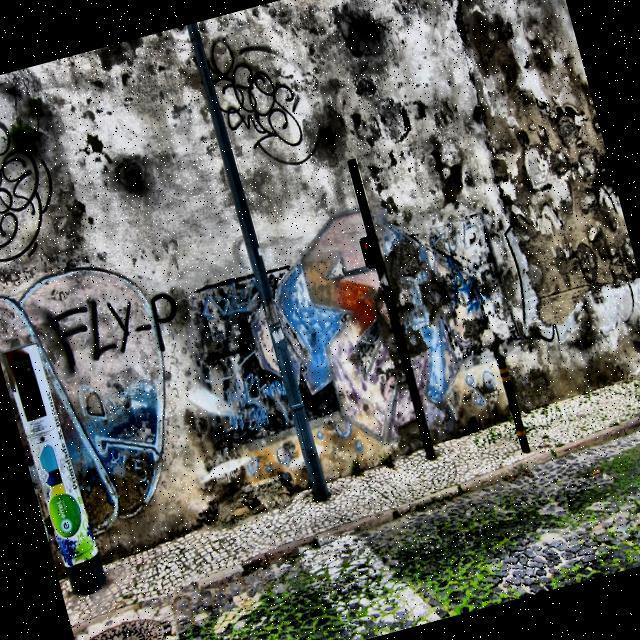red_light: (362, 240, 369, 252)
